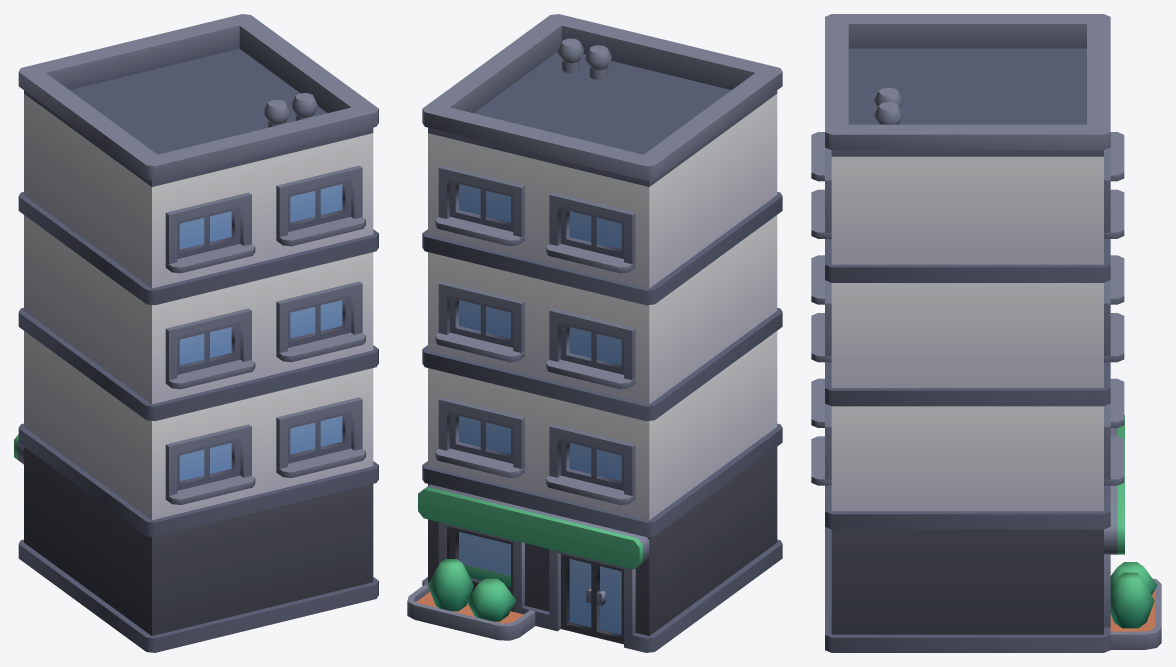
The model's file is building-f.glb.
3 renders of one model, left to right at view 1: azimuth 30°, elevation 25°; view 2: azimuth 150°, elevation 25°; view 3: azimuth 270°, elevation 25°, orthographic. The views are drawn at different scales.
Visible parts, largest first — view 1: building-f; view 2: building-f; view 3: building-f.
Boxes of the visible parts, <box> form: building-f: <box>14,14,378,652</box>; building-f: <box>407,14,782,652</box>; building-f: <box>811,14,1161,652</box>.
Bounding box in the file's own units: 0.84 × 1.69 × 1.03.
1 material, 1 textured.
